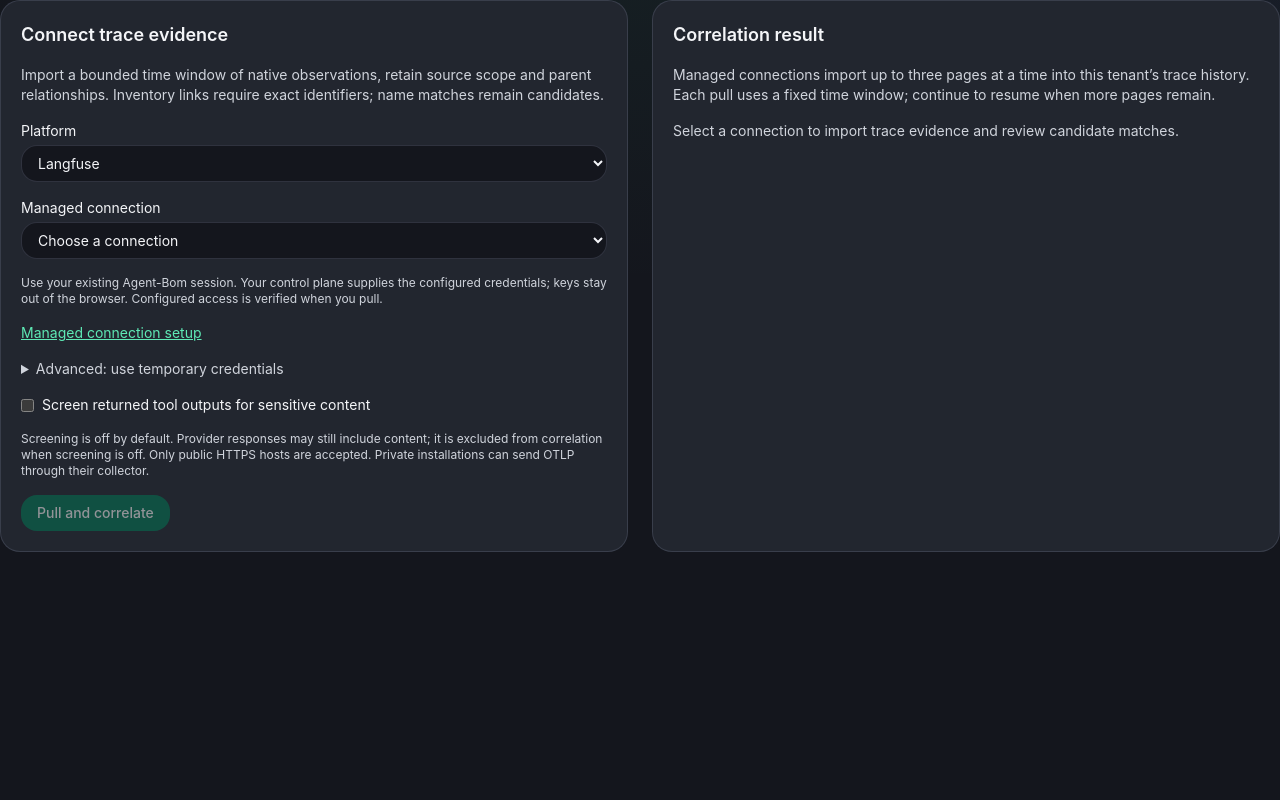
Test case: uses a managed connection without requesting or transmitting credentials
Select "Production traces" in the dropdown labelled "Managed connection": point(314, 240) [21,222,607,259]
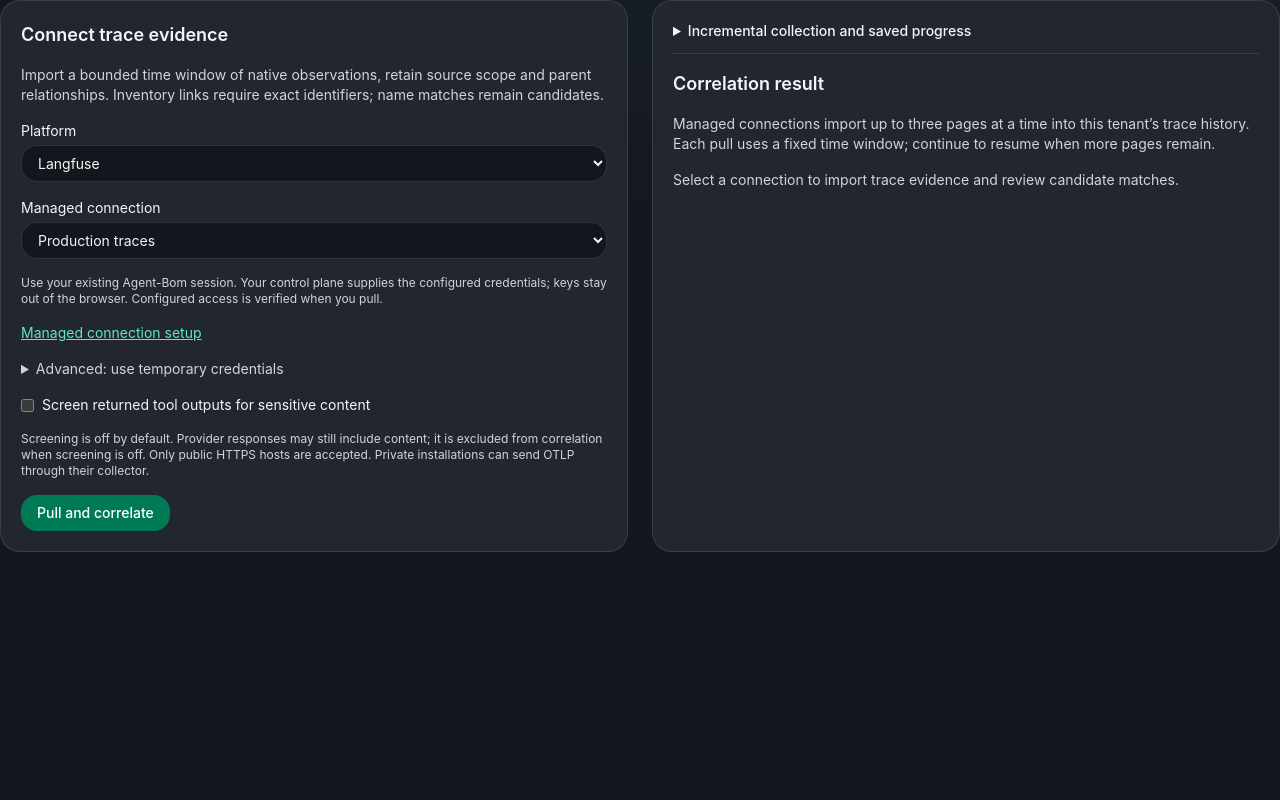
Click the button "Pull and correlate": point(95, 513) [21,495,170,531]
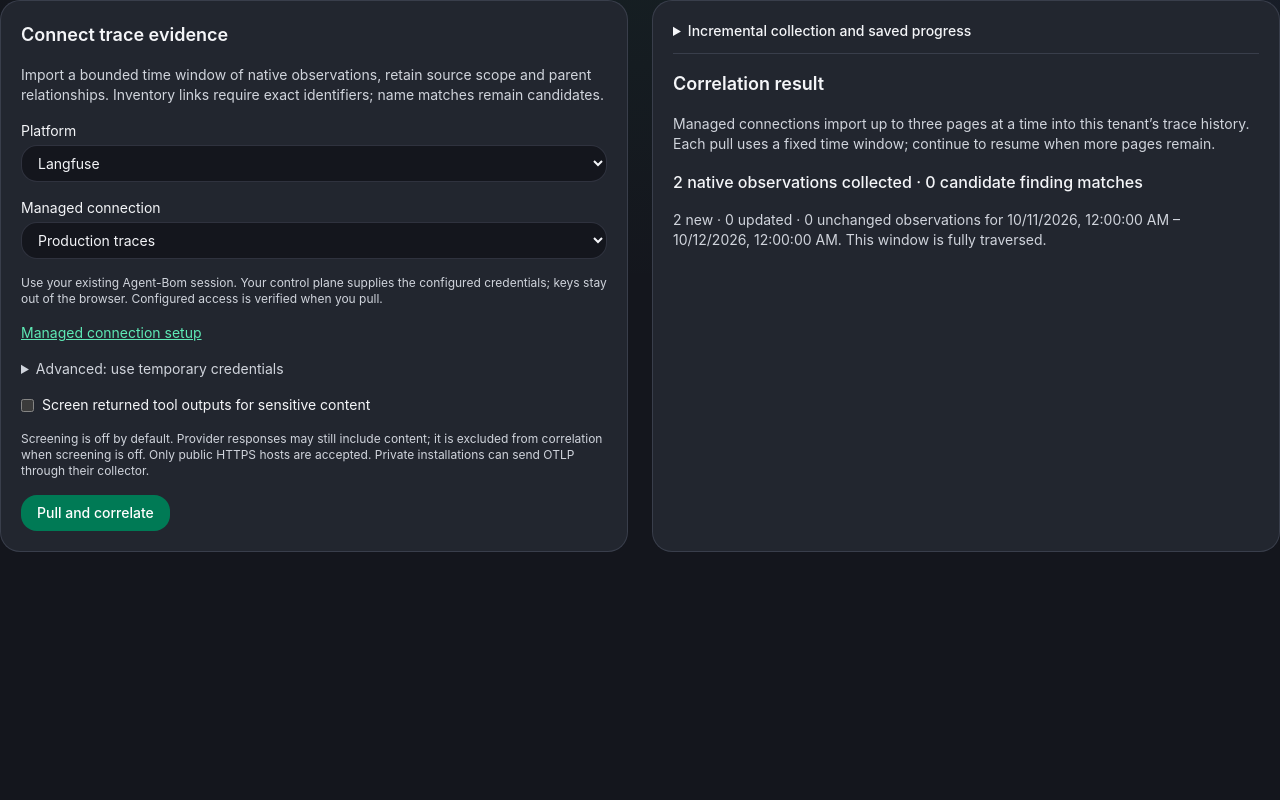
Check: the text "2 new · 0 updated · 0 unchanged observations" is shown, box [673,210,1259,250]
